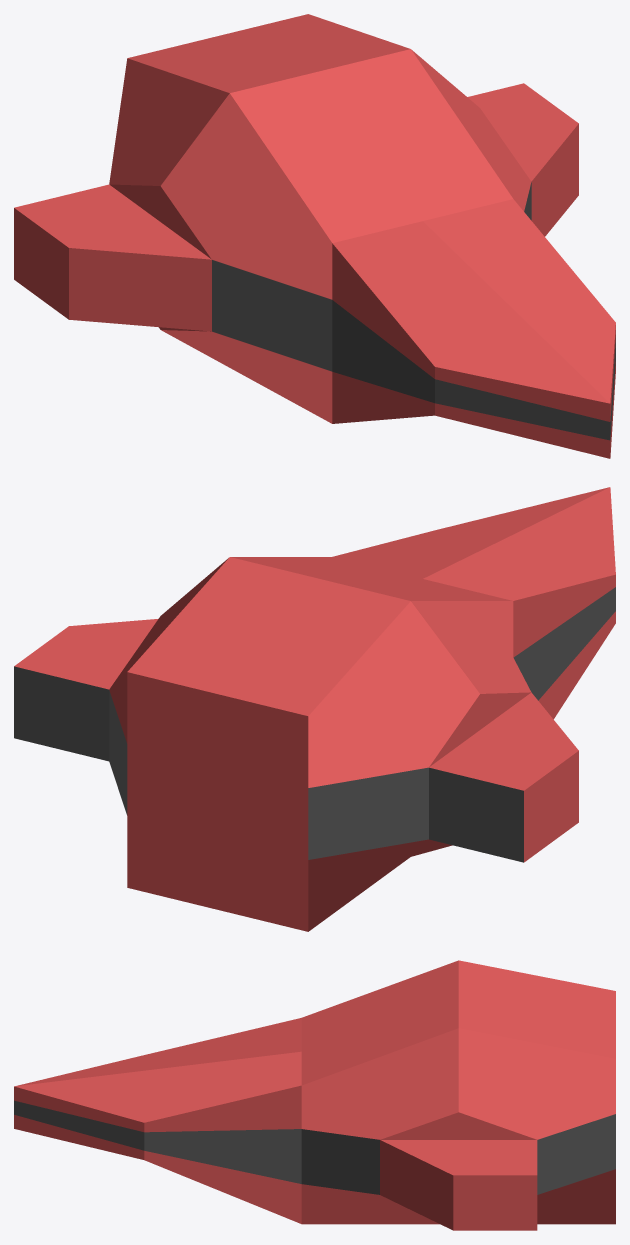
File: HumanAutoPilot.glb
3 renders of one model, top to bottom at view 1: azimuth 30°, elevation 25°; view 2: azimuth 150°, elevation 25°; view 3: azimuth 270°, elevation 25°, orthographic. The views are drawn at different scales.
Visible parts, largest first — view 1: Cube; view 2: Cube; view 3: Cube.
Part boxes in pixels (x1,y1,x2,y2): Cube: [14, 14, 615, 458]; Cube: [14, 487, 615, 931]; Cube: [14, 960, 615, 1230].
Size of the model in its own units: 1.91 by 0.9173 by 2.55.
